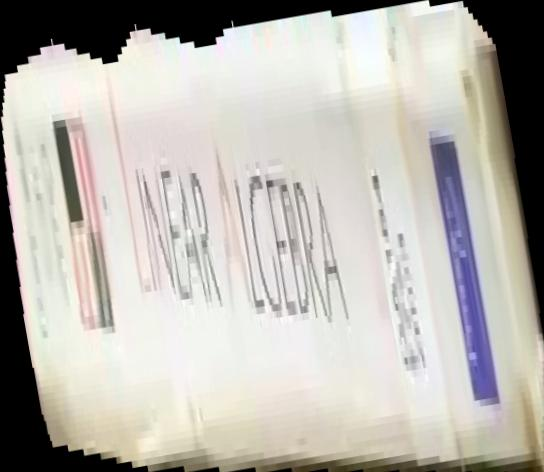flat: (1, 1, 544, 472)
